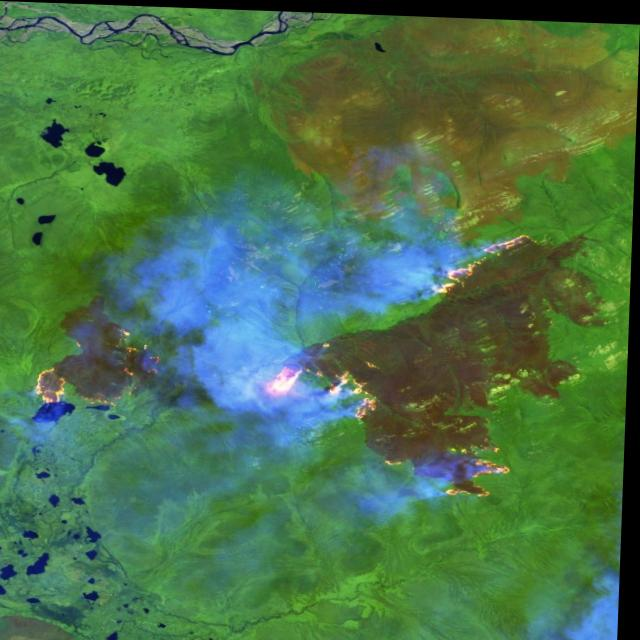fire: (258, 216, 547, 500), (29, 323, 168, 411)
